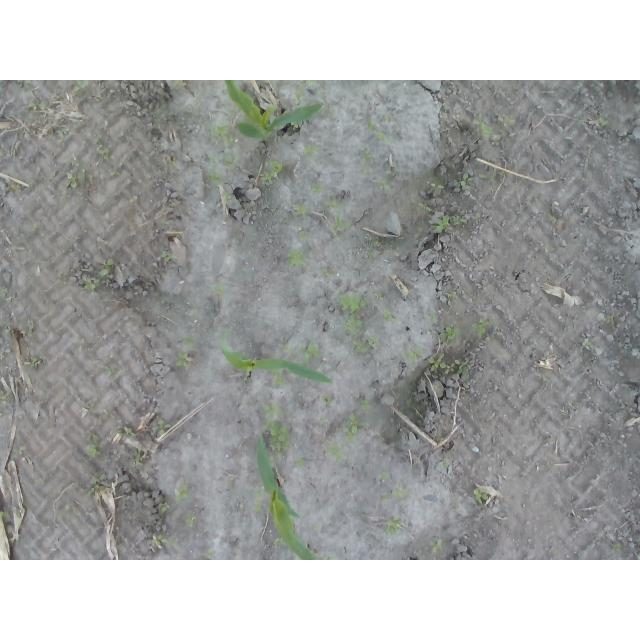Maize: (252, 432, 320, 561), (213, 327, 335, 385), (219, 80, 325, 140)
Weeds: (263, 419, 292, 461), (342, 412, 366, 442), (65, 166, 92, 190), (210, 125, 236, 148), (261, 160, 284, 185), (338, 292, 366, 312), (427, 353, 455, 373), (84, 431, 104, 458), (471, 116, 494, 138), (382, 516, 407, 536), (427, 213, 453, 231), (341, 314, 364, 334), (87, 475, 107, 497), (299, 343, 321, 362), (94, 135, 110, 160), (27, 90, 47, 110), (327, 440, 346, 461), (205, 168, 227, 186), (358, 150, 374, 174), (286, 249, 307, 267), (262, 400, 283, 418), (491, 113, 516, 128), (330, 215, 352, 232), (151, 534, 177, 548), (471, 318, 489, 338), (403, 348, 424, 365), (391, 484, 411, 501), (151, 419, 171, 436), (223, 152, 240, 171), (131, 444, 145, 467), (437, 326, 461, 339), (351, 338, 369, 355), (301, 144, 319, 160), (454, 359, 470, 377), (83, 276, 101, 292), (271, 369, 286, 388), (100, 259, 115, 278), (478, 170, 506, 180), (152, 106, 175, 118), (174, 484, 191, 500), (56, 504, 73, 520), (373, 129, 392, 143), (424, 178, 444, 191), (430, 538, 446, 554), (174, 350, 190, 366), (474, 489, 491, 504), (179, 333, 197, 347), (115, 427, 137, 438), (375, 177, 392, 191), (323, 198, 341, 210), (441, 288, 459, 300), (252, 485, 266, 500), (294, 204, 310, 217), (23, 357, 41, 368), (75, 80, 90, 93), (220, 190, 232, 206), (382, 307, 394, 323), (296, 84, 305, 105), (452, 215, 469, 226), (278, 343, 295, 354), (462, 173, 475, 187), (599, 312, 614, 324), (314, 552, 334, 561), (11, 445, 29, 455), (385, 166, 404, 175), (376, 492, 389, 505), (365, 334, 379, 346), (294, 455, 306, 469), (274, 537, 289, 548), (159, 252, 177, 261), (184, 514, 197, 526), (581, 338, 593, 351), (311, 183, 325, 194), (172, 80, 189, 89), (317, 267, 332, 277), (429, 312, 439, 327), (7, 181, 22, 191), (490, 134, 502, 146), (383, 112, 395, 124), (280, 214, 293, 225), (596, 117, 609, 128), (204, 549, 217, 560), (158, 501, 171, 511), (102, 364, 112, 377), (417, 203, 431, 212), (299, 231, 310, 242), (379, 471, 390, 482), (253, 503, 264, 514), (208, 153, 220, 163), (546, 213, 558, 223), (0, 391, 8, 406), (17, 80, 31, 88), (158, 219, 174, 226), (359, 399, 369, 410), (213, 283, 223, 294), (1, 509, 12, 519), (544, 244, 556, 253), (366, 119, 375, 130), (322, 395, 332, 404), (373, 292, 383, 301), (442, 460, 451, 470), (225, 478, 235, 487), (268, 456, 276, 467), (0, 287, 8, 298), (10, 246, 27, 251), (86, 404, 95, 413), (300, 80, 316, 85), (614, 541, 622, 551), (471, 213, 482, 220), (4, 326, 13, 334), (109, 169, 118, 177), (290, 120, 299, 128), (130, 195, 139, 203), (363, 253, 373, 260), (173, 157, 179, 167), (310, 523, 318, 530), (549, 438, 556, 445), (96, 95, 104, 100), (1, 151, 4, 158)
